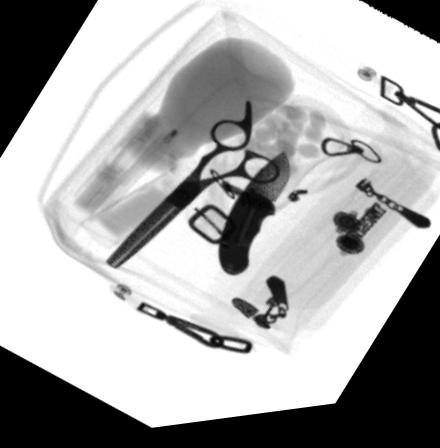Knife: (217, 158, 290, 285)
Scissors: (103, 105, 281, 273)
